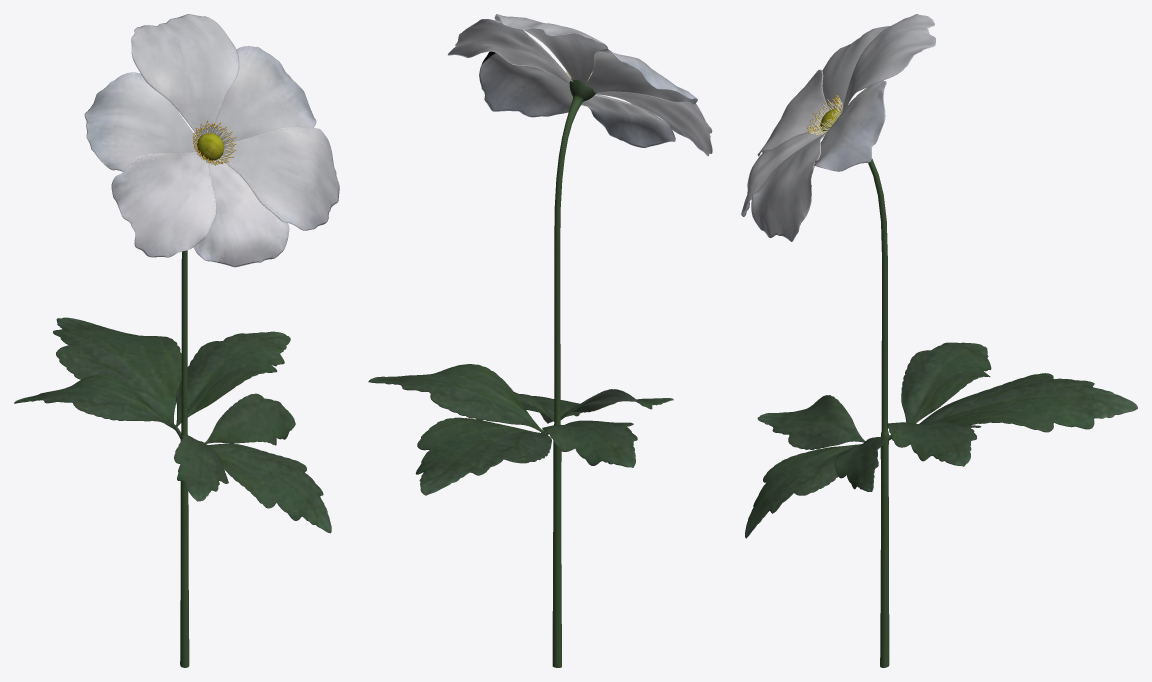
Rendered from anemone.glb.
3 views of the same model, side by side, from view 1: azimuth 30°, elevation 25°; view 2: azimuth 150°, elevation 25°; view 3: azimuth 270°, elevation 25° (orthographic). The views are drawn at different scales.
Parts seen in each view (by area): view 1: 12973_anemone_flower; view 2: 12973_anemone_flower; view 3: 12973_anemone_flower.
Boxes of the visible parts, x1,y1,x2,y2 form: 12973_anemone_flower: (14,14,339,667); 12973_anemone_flower: (368,14,712,667); 12973_anemone_flower: (741,14,1137,667).
Size of the model in its own units: 13.15 by 29.92 by 16.92.
Materials: 1 (1 with a texture image).
